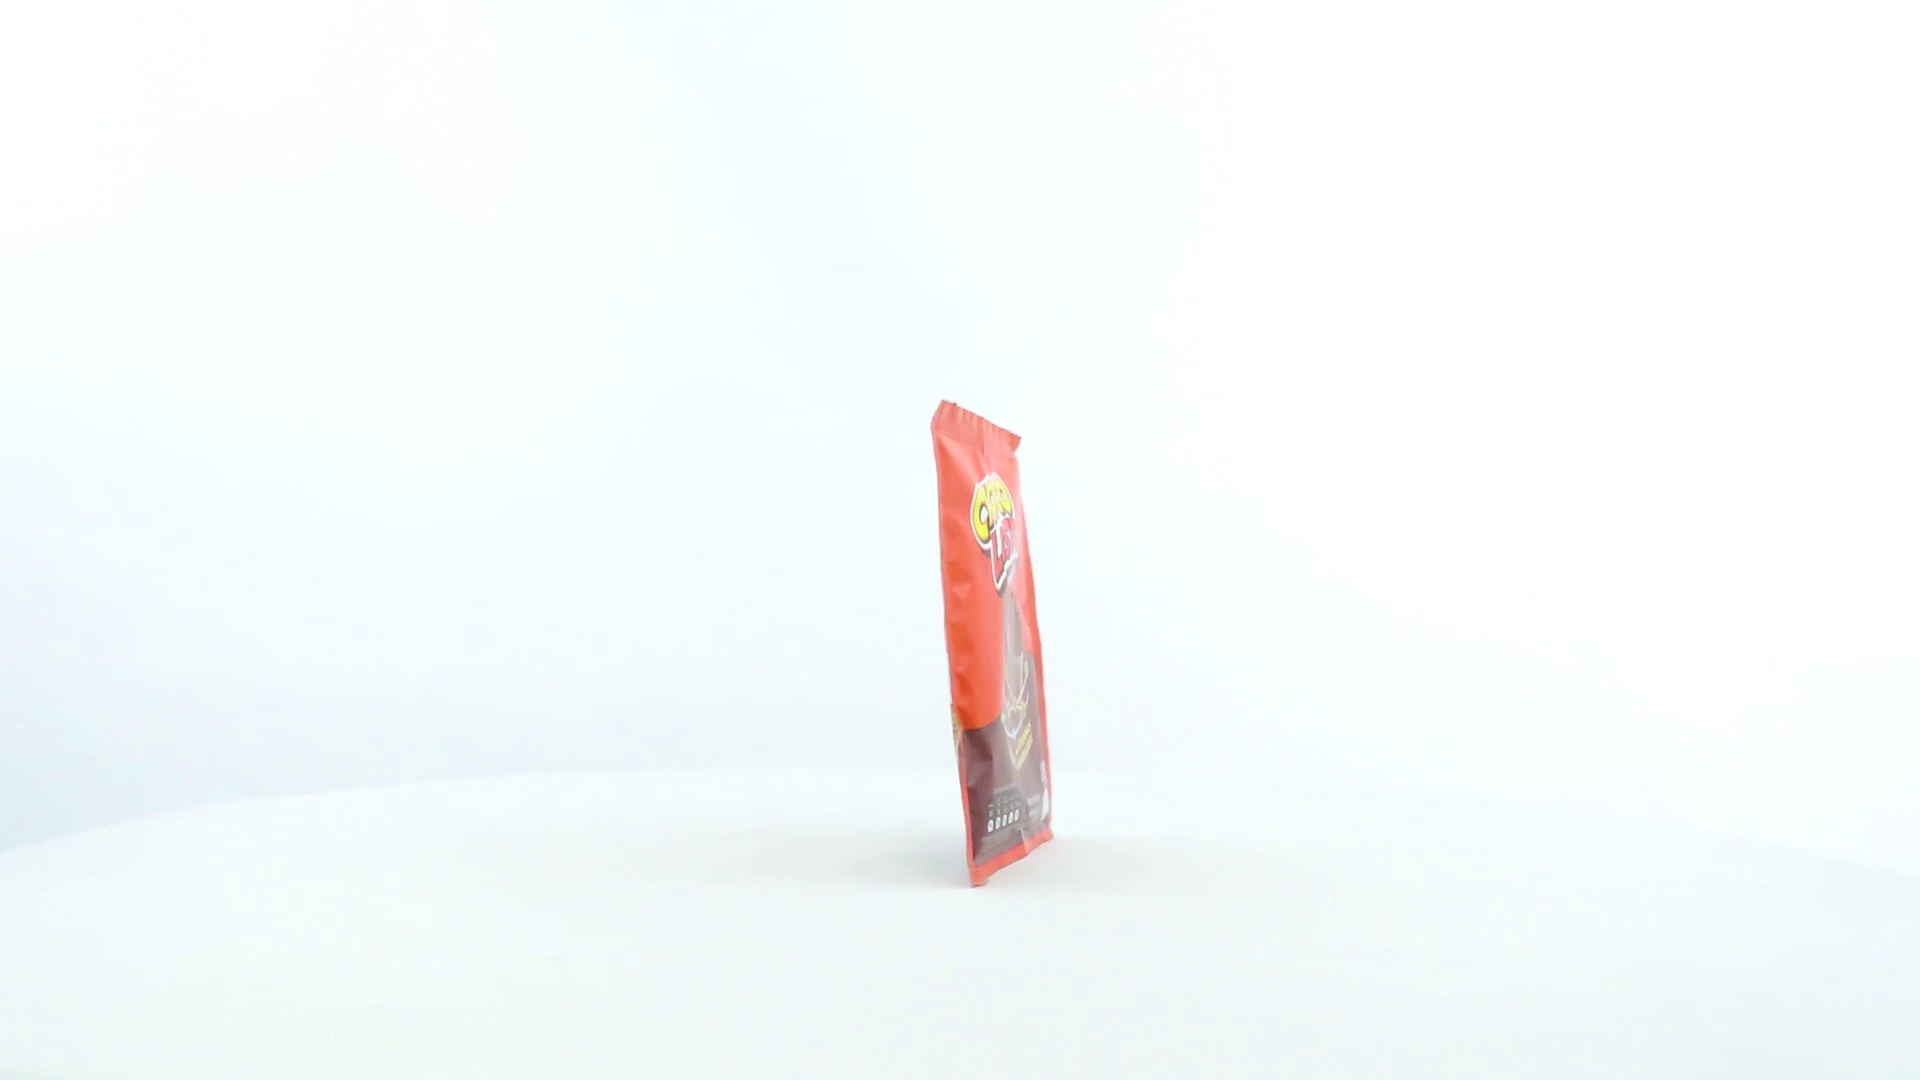COL0170103SOB02000: (924, 394, 1060, 895)
